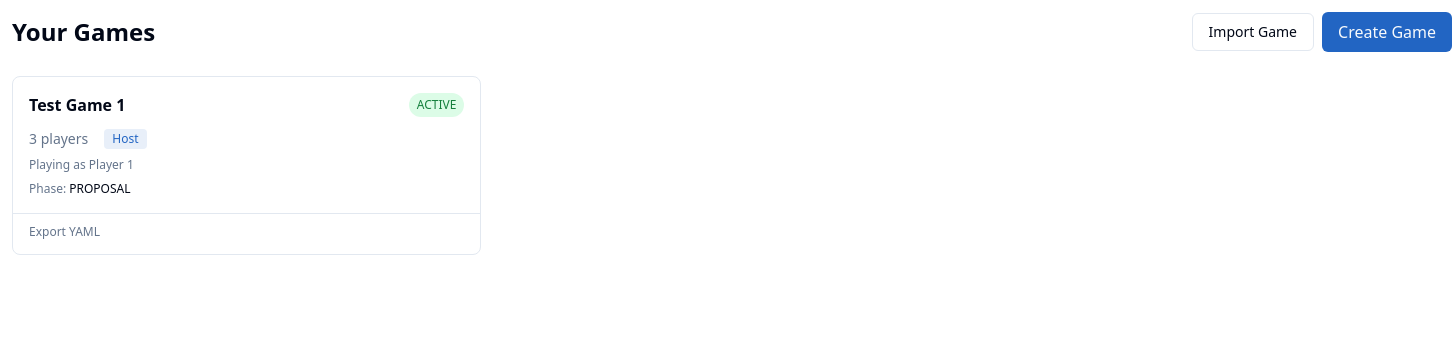
Test: Dashboard Page › should display error message when export fails
Expected: the heading "Test Game 1" is shown, [29,93,125,117]
Click the button with aria-label "export test game 1 as yaml" at (64, 232), box [29,224,100,240]
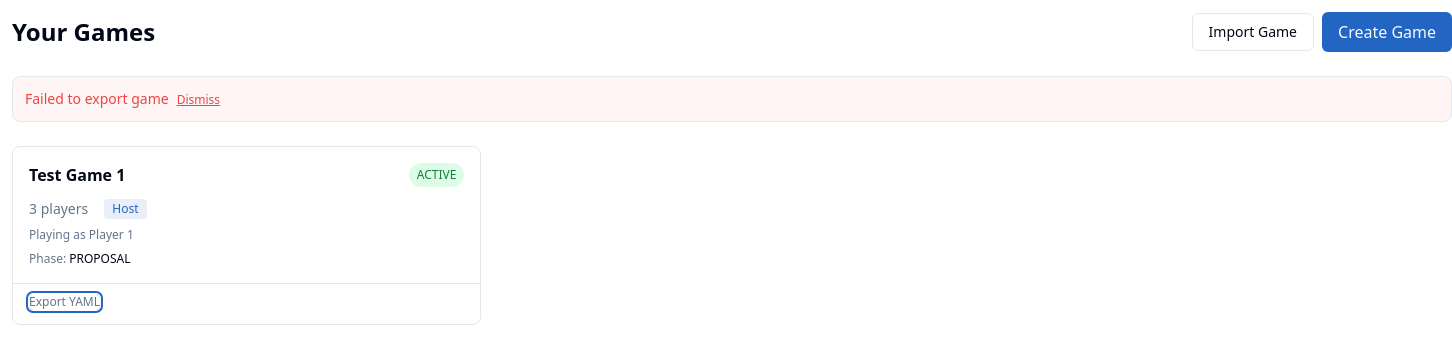
Expected: the text "Failed to export game" is shown, [25,89,169,108]
Expected: the button with aria-label "Dismiss export error message" is shown, [177,92,220,108]
